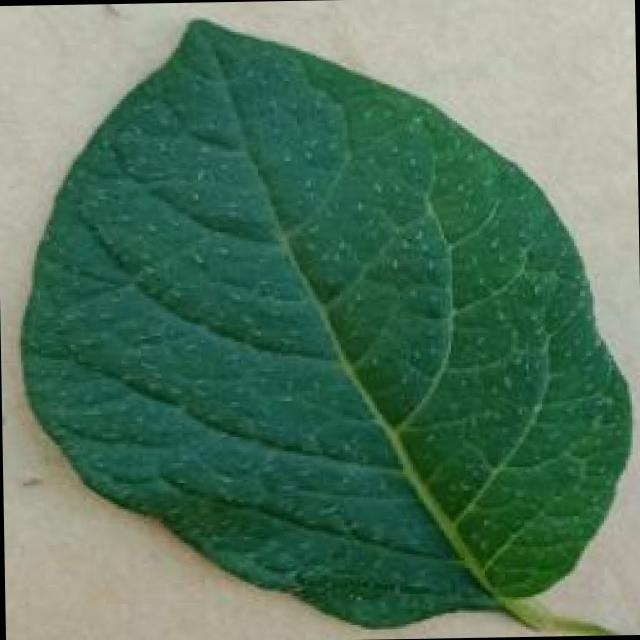Potato_Healthy: (12, 8, 626, 634)
